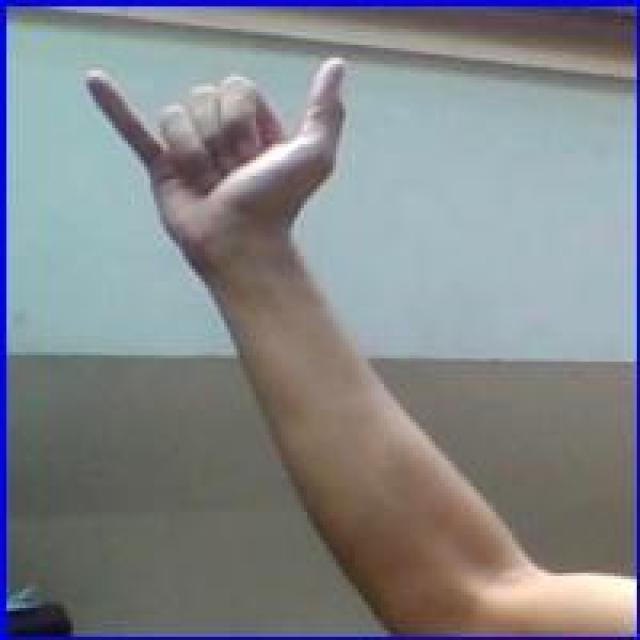Y: (79, 54, 354, 253)
